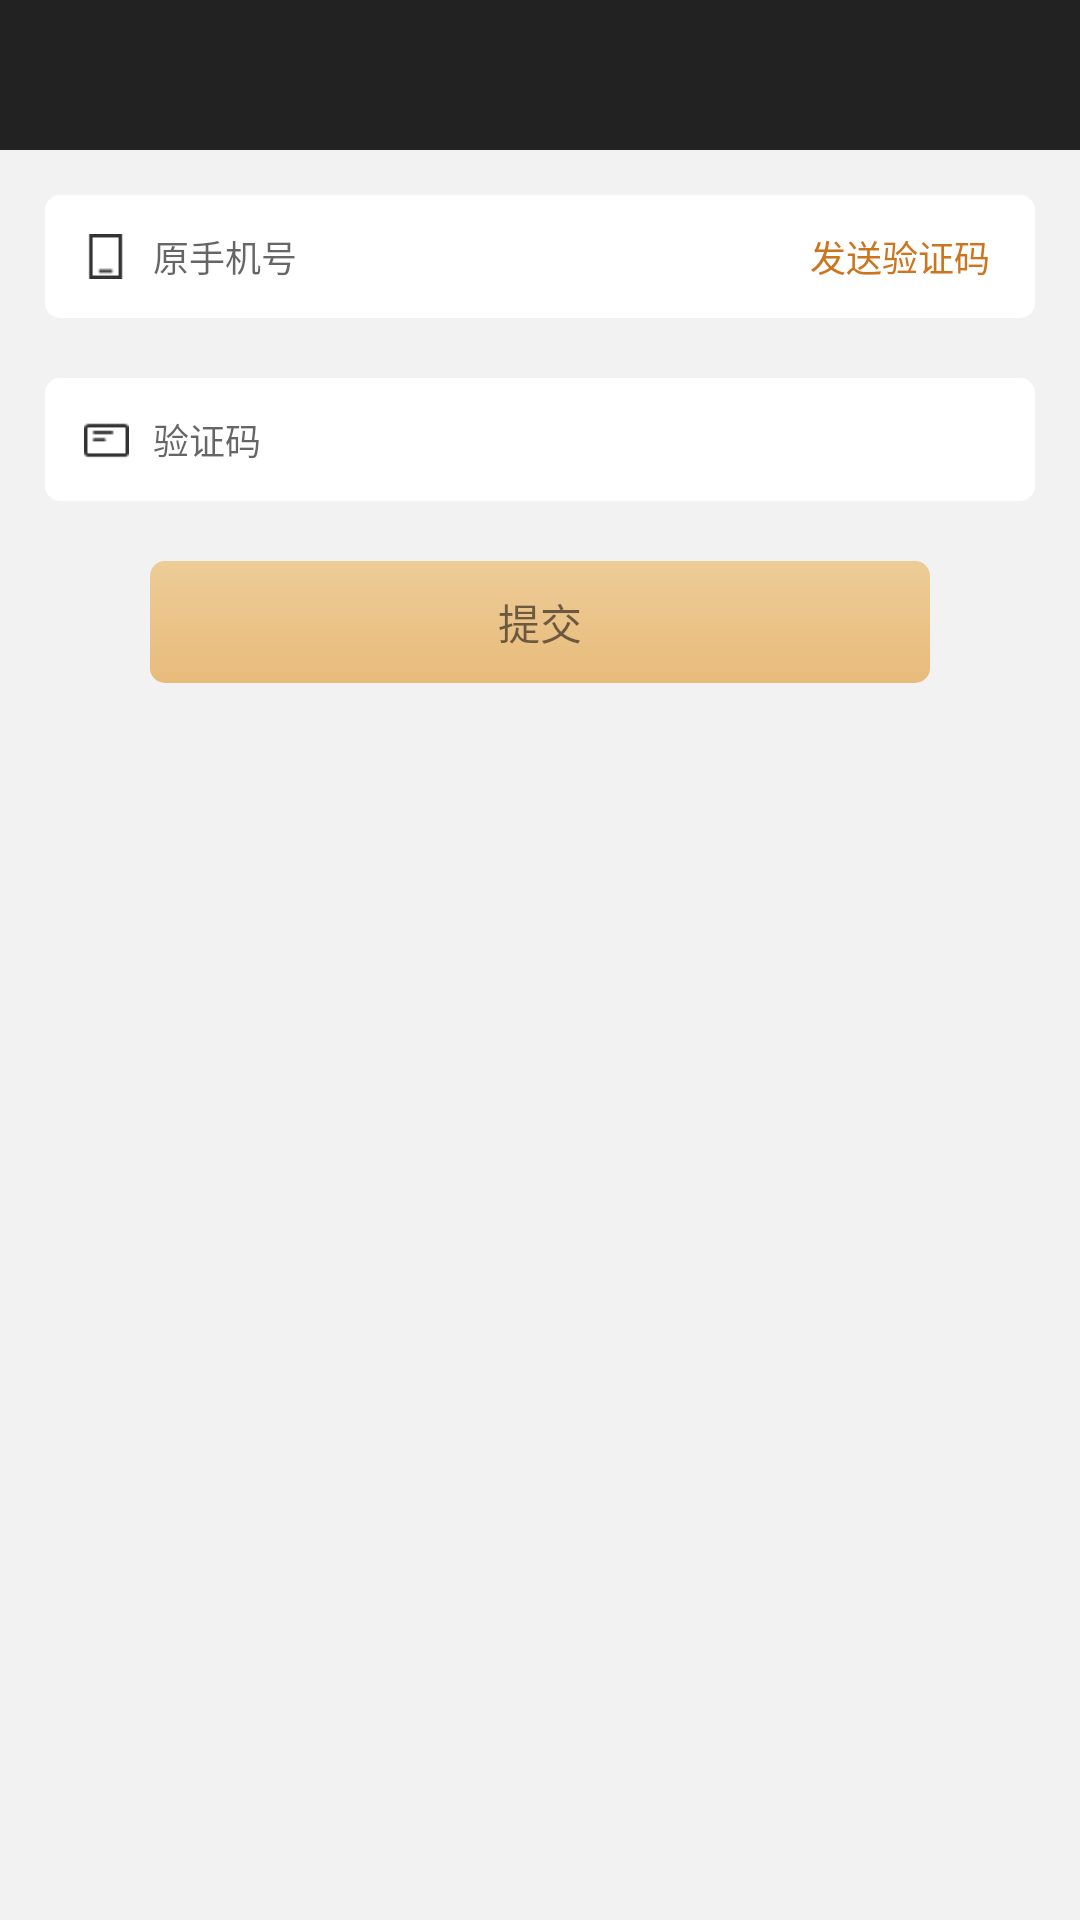

Named icons in this screenshot (1080*1920) and their centers, (x,y):
phone: (106,256)
